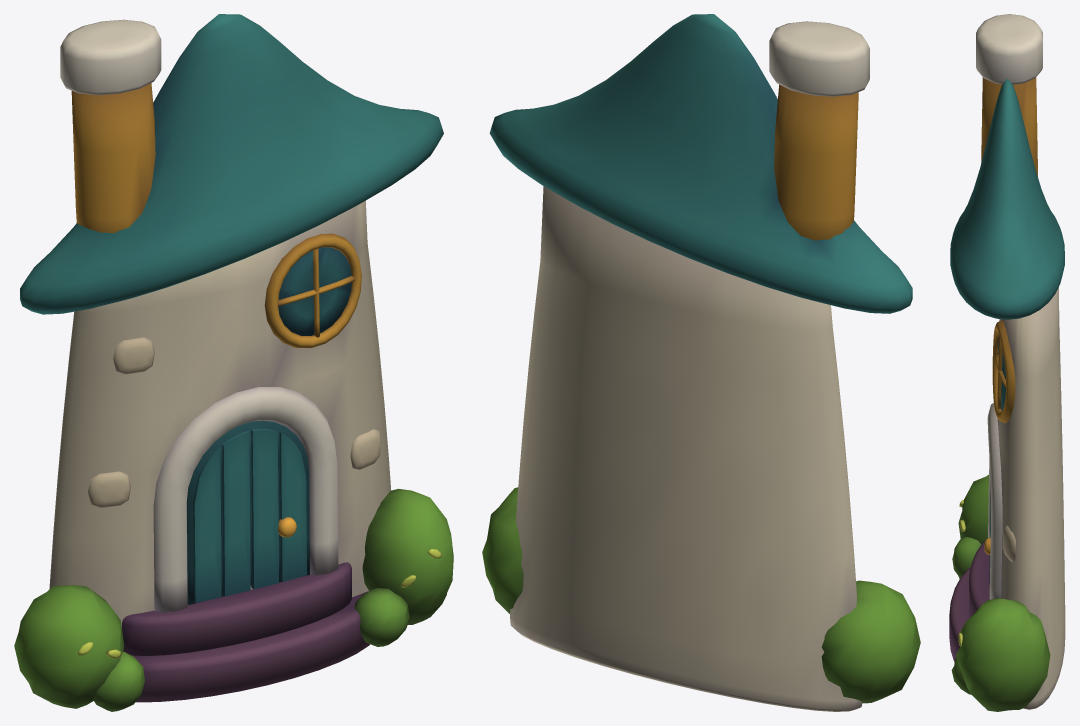
The model's file is clubhouse-tower-facade.glb.
The picture shows the model from 3 angles, left to right: view 1: azimuth 30°, elevation 25°; view 2: azimuth 150°, elevation 25°; view 3: azimuth 270°, elevation 25°; orthographic projection. The views are drawn at different scales.
Visible parts, largest first — view 1: clubhouse-tower-facade; view 2: clubhouse-tower-facade; view 3: clubhouse-tower-facade.
Boxes of the visible parts, <box> form: clubhouse-tower-facade: <box>14,14,453,711</box>; clubhouse-tower-facade: <box>482,14,920,711</box>; clubhouse-tower-facade: <box>949,14,1065,711</box>.
Size of the model in its own units: 4.29 by 6.36 by 1.2.
